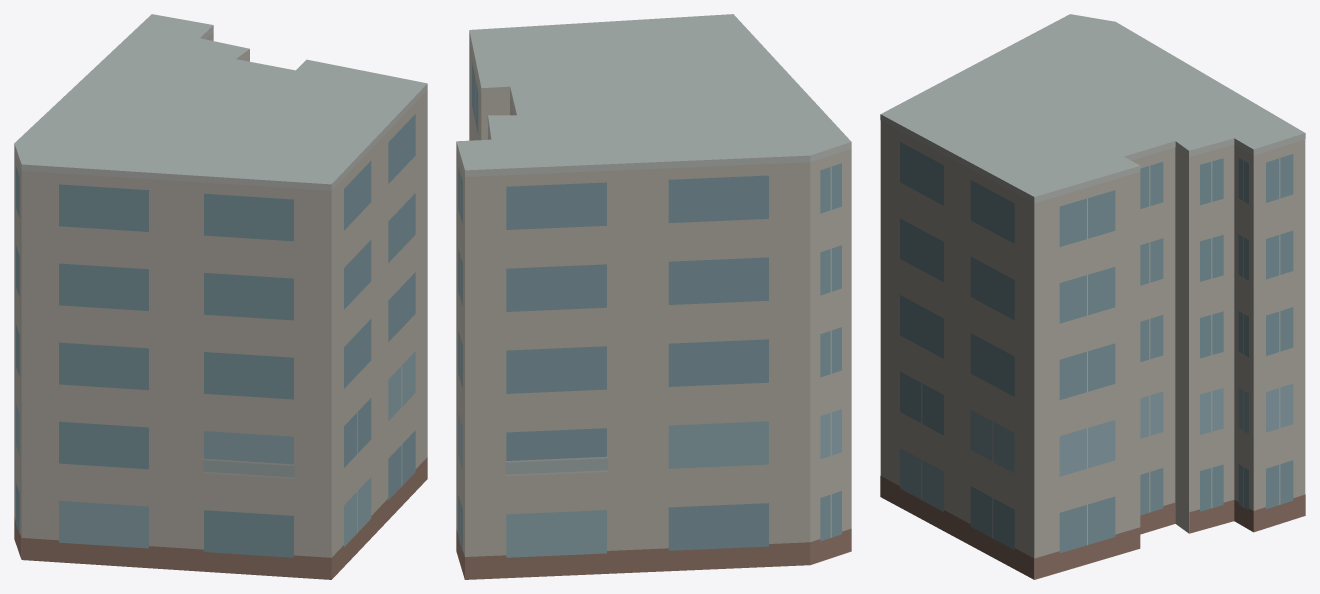
Rendered from survey-upis-32773174.glb.
The picture shows the model from 3 angles, left to right: view 1: azimuth 30°, elevation 25°; view 2: azimuth 150°, elevation 25°; view 3: azimuth 270°, elevation 25°; orthographic projection. The views are drawn at different scales.
Visible parts, largest first — view 1: survey-upis-32773174.tmp; view 2: survey-upis-32773174.tmp; view 3: survey-upis-32773174.tmp.
Part boxes in pixels (bbox=[...]): survey-upis-32773174.tmp: bbox=[14, 14, 427, 579]; survey-upis-32773174.tmp: bbox=[456, 14, 851, 579]; survey-upis-32773174.tmp: bbox=[880, 14, 1305, 579].
Bounding box in the file's own units: 15.5 × 15.1 × 15.2.
